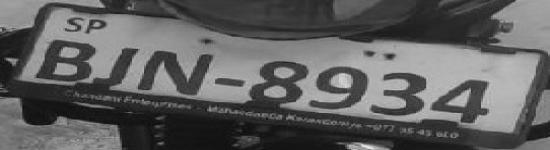-: (214, 73, 249, 91)
3: (369, 68, 429, 117)
4: (430, 72, 504, 125)
8: (247, 58, 312, 104)
9: (308, 63, 371, 111)
B: (34, 38, 100, 82)
J: (98, 41, 138, 89)
N: (138, 46, 216, 98)
P: (85, 16, 110, 36)
S: (60, 14, 85, 34)
